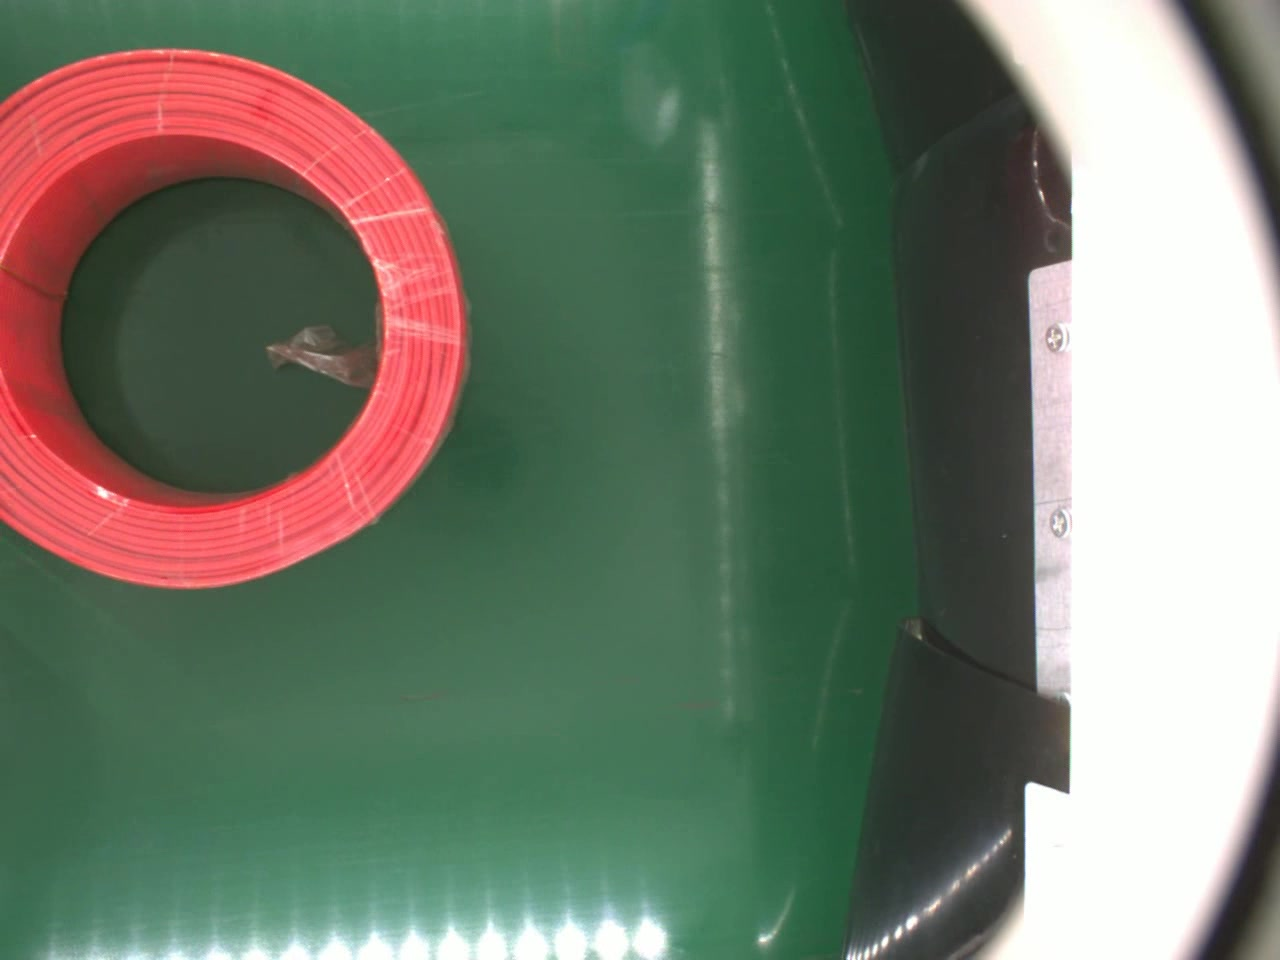red: (0, 45, 467, 592)
